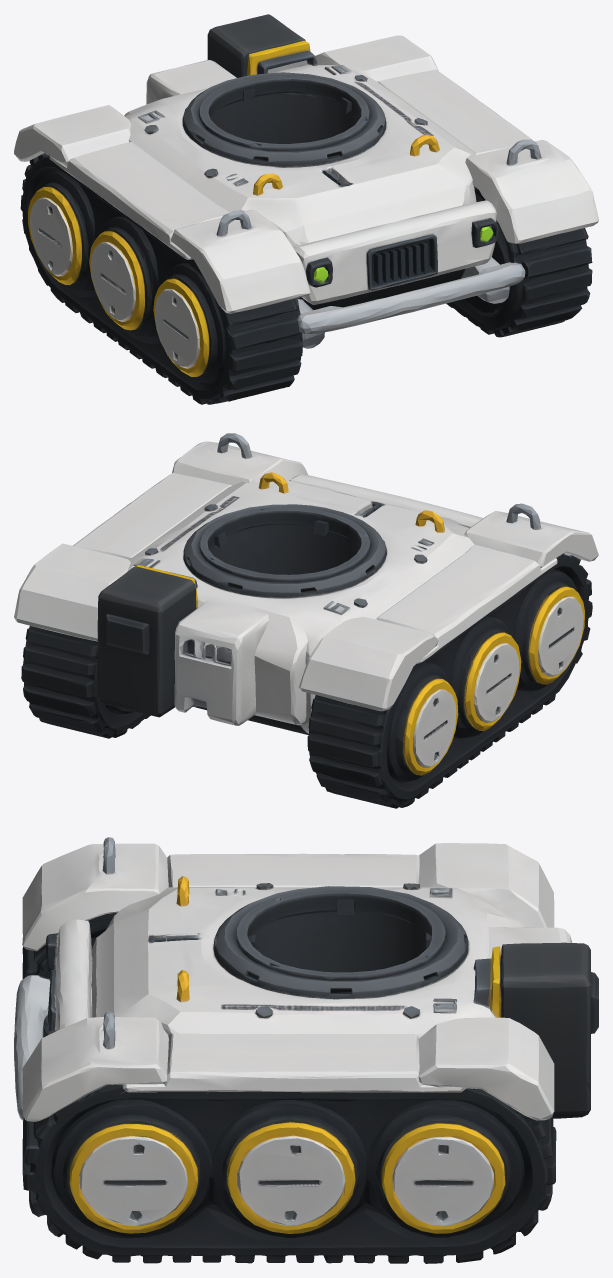
File: light_tracks.glb
3 views of the same model, one above another, from view 1: azimuth 30°, elevation 25°; view 2: azimuth 150°, elevation 25°; view 3: azimuth 270°, elevation 25° (orthographic). The views are drawn at different scales.
Parts seen in each view (by area): view 1: model; view 2: model; view 3: model.
Part boxes in pixels (bbox=[...]): model: bbox=[14, 14, 598, 404]; model: bbox=[14, 433, 598, 808]; model: bbox=[14, 837, 598, 1263].
Size of the model in its own units: 1.78 by 0.8358 by 1.9.
Materials: 1 (1 with a texture image).
